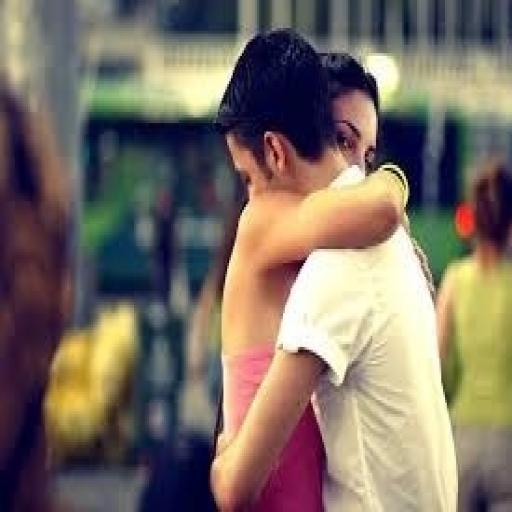hugging: (208, 25, 460, 509)
